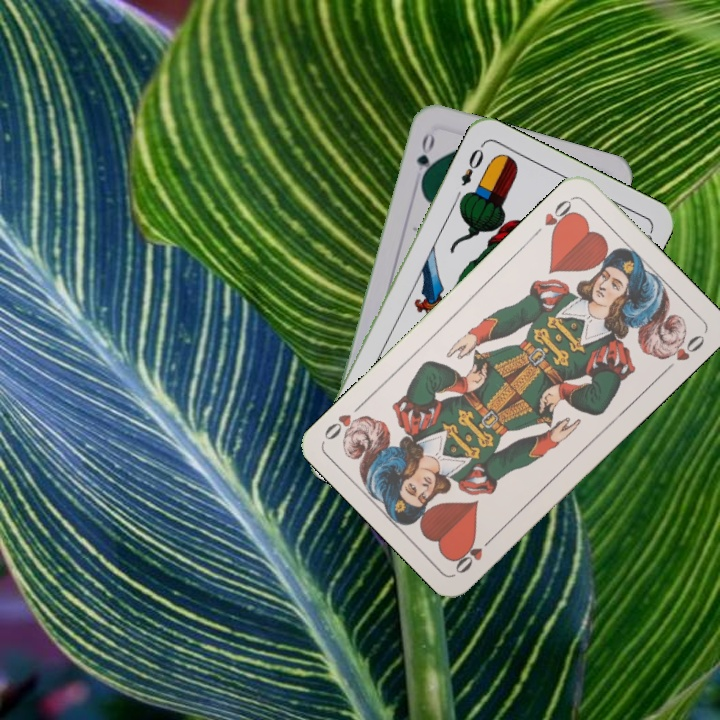EO: (457, 144, 487, 189)
GO: (412, 128, 438, 186)
HO: (529, 193, 578, 240), (450, 531, 498, 576)
